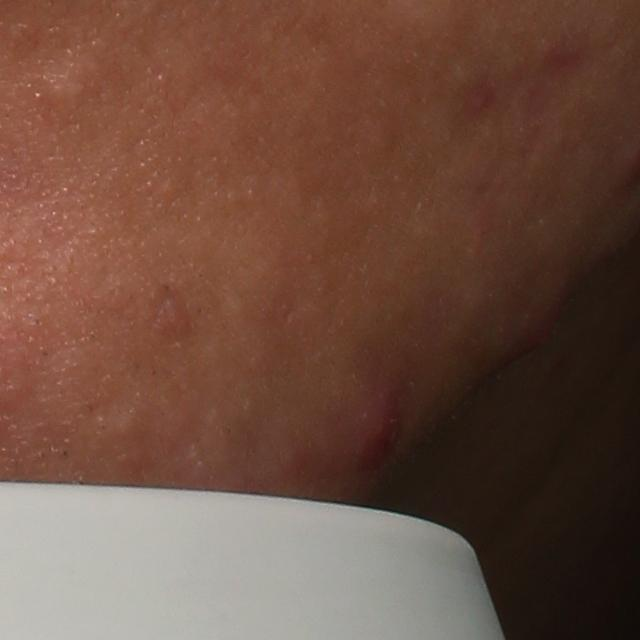hypertrophic_scar: (18, 47, 108, 126)
papule: (352, 391, 404, 467), (499, 307, 564, 365), (155, 296, 199, 341)
